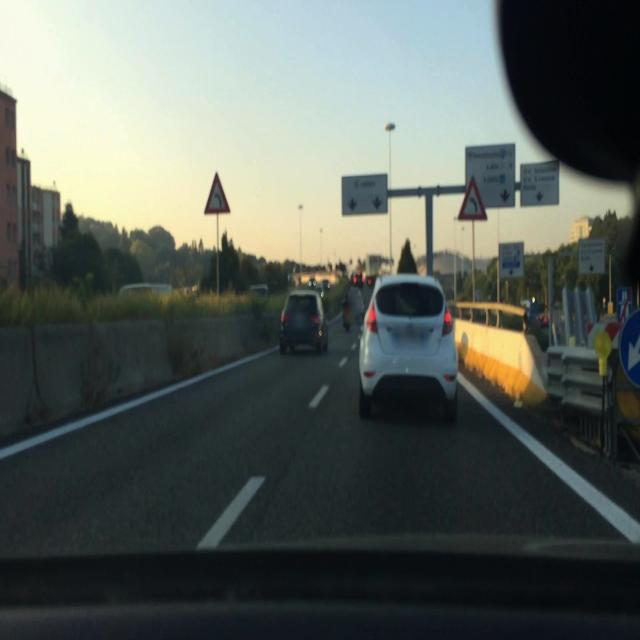car: (357, 271, 459, 424), (279, 288, 329, 356), (118, 282, 173, 301), (247, 283, 270, 303)
